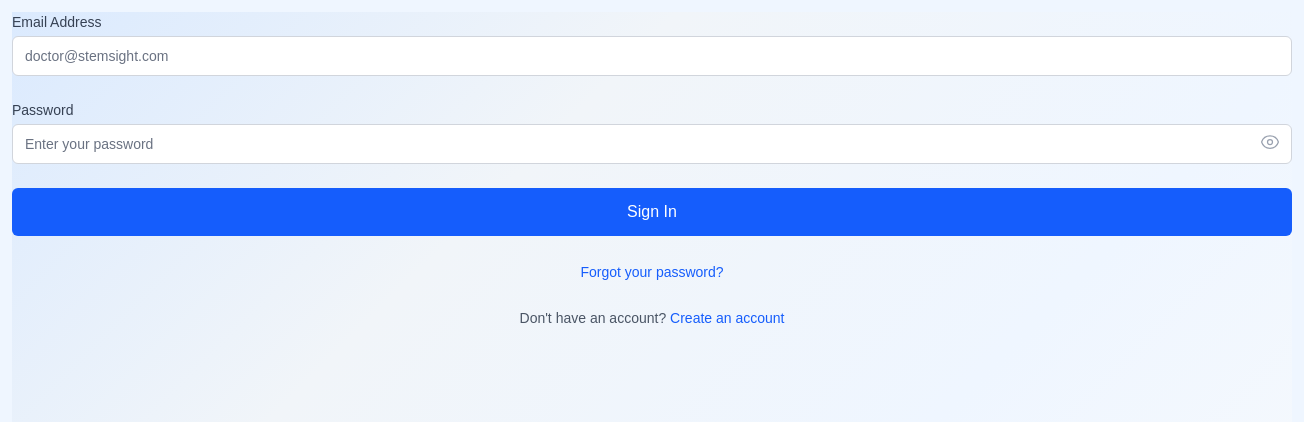
Test: LoginForm › shows error when email is empty
Type "password123" into the password field labelled "Password". click: [652, 144]
box: [12,124,1292,164]
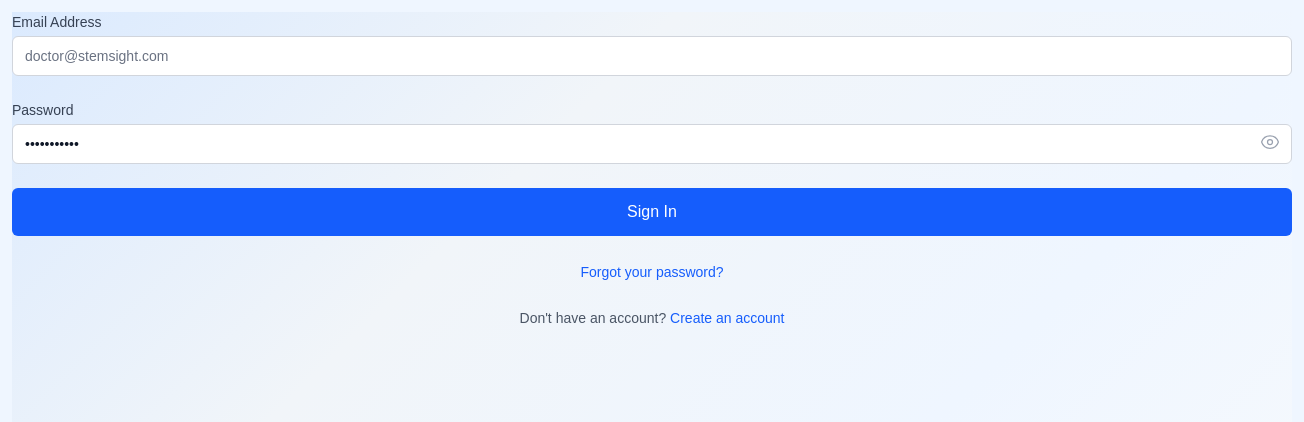
Click the button "Sign In". click: [652, 212]
box: [12,188,1292,236]
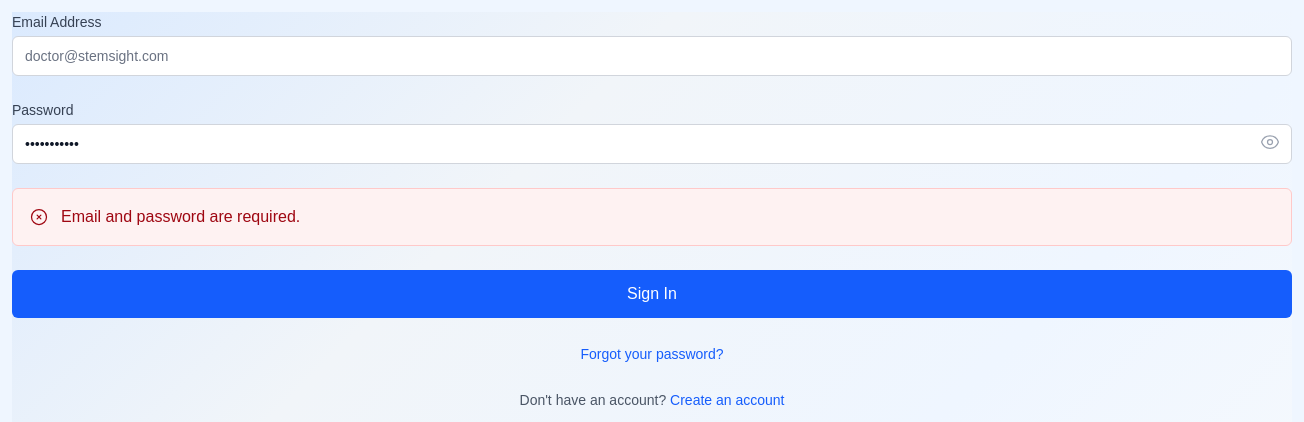
Expected: the text "Email and password are required." is shown, [61,208,300,225]
